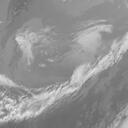cyclone: (15, 18, 102, 97)
